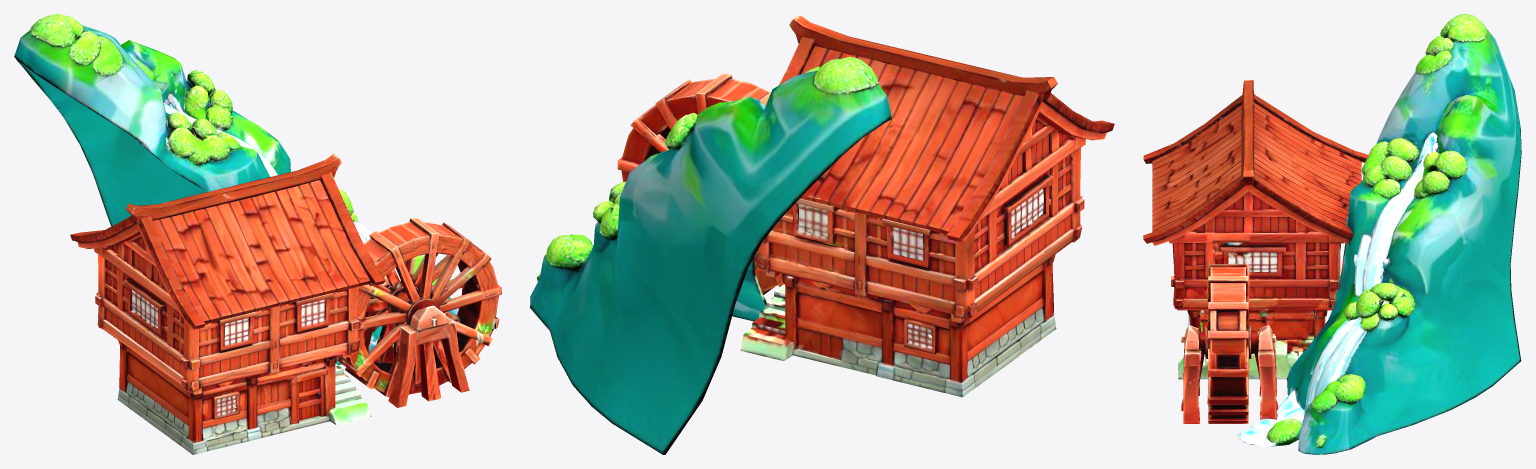
The model's file is ql_mill_lo.glb.
3 renders of one model, left to right at view 1: azimuth 30°, elevation 25°; view 2: azimuth 150°, elevation 25°; view 3: azimuth 270°, elevation 25°, orthographic. The views are drawn at different scales.
Parts seen in each view (by area): view 1: ql_mill; view 2: ql_mill; view 3: ql_mill.
Part boxes in pixels (box(x1,y1,x2,y2)): ql_mill: box(14, 14, 501, 454); ql_mill: box(530, 14, 1114, 454); ql_mill: box(1143, 14, 1521, 454).
Size of the model in its own units: 8.41 by 7 by 8.06.
Materials: 1 (1 with a texture image).
